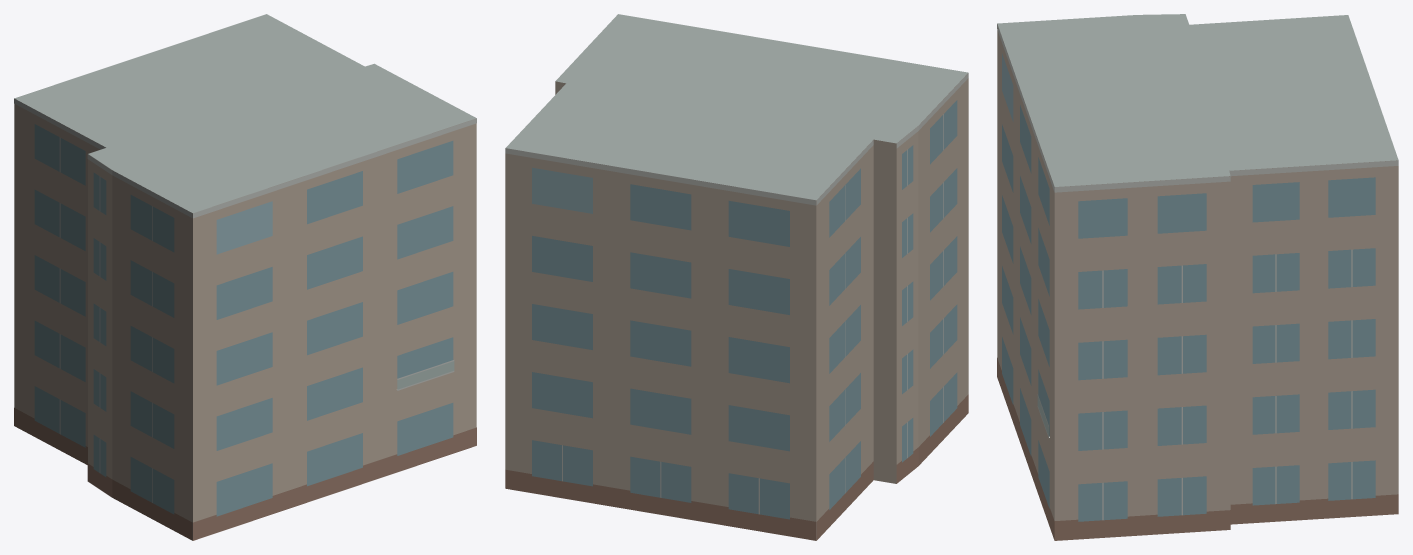
The model's file is survey-upis-33045572.glb.
3 renders of one model, left to right at view 1: azimuth 30°, elevation 25°; view 2: azimuth 150°, elevation 25°; view 3: azimuth 270°, elevation 25°, orthographic. The views are drawn at different scales.
Visible parts, largest first — view 1: survey-upis-33045572.tmp; view 2: survey-upis-33045572.tmp; view 3: survey-upis-33045572.tmp.
Boxes of the visible parts, box(x1,y1,x2,y2) form: survey-upis-33045572.tmp: box(14, 14, 476, 540); survey-upis-33045572.tmp: box(505, 14, 968, 540); survey-upis-33045572.tmp: box(997, 14, 1398, 540).
Bounding box in the file's own units: 16.32 × 15.55 × 16.
